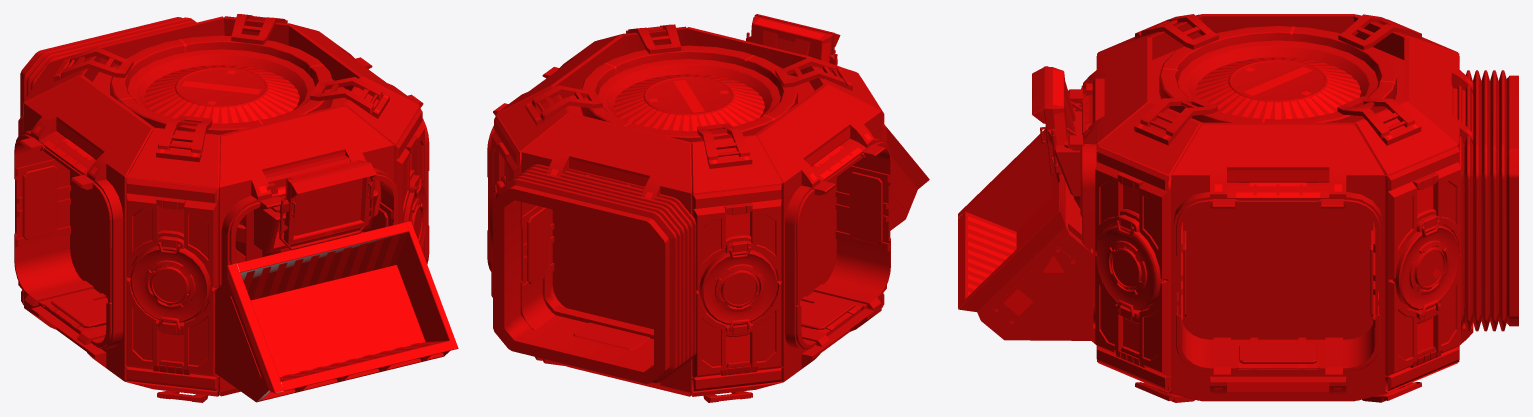
Rendered from MiniHopper0.2.ex.fbx.
3 views of the same model, side by side, from view 1: azimuth 30°, elevation 25°; view 2: azimuth 150°, elevation 25°; view 3: azimuth 270°, elevation 25° (orthographic). The views are drawn at different scales.
Visible parts, largest first — view 1: SM_ConveyorMerger_01; view 2: SM_ConveyorMerger_01; view 3: SM_ConveyorMerger_01.
Part boxes in pixels (x1=…): SM_ConveyorMerger_01: x1=14, y1=14, x2=458, y2=402; SM_ConveyorMerger_01: x1=487, y1=14, x2=929, y2=402; SM_ConveyorMerger_01: x1=958, y1=14, x2=1518, y2=402.
Size of the model in its own units: 413 by 315 by 552.
